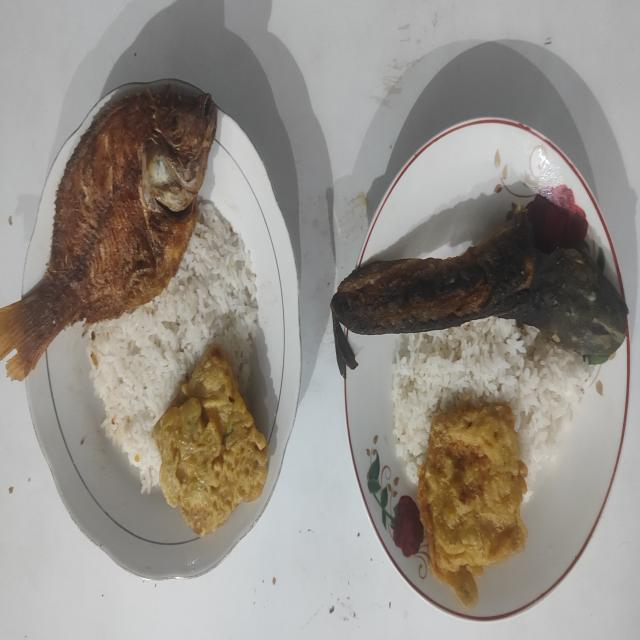ikan_mujair: (0, 84, 217, 380)
nasi_putih: (87, 201, 257, 491), (391, 318, 592, 480)
